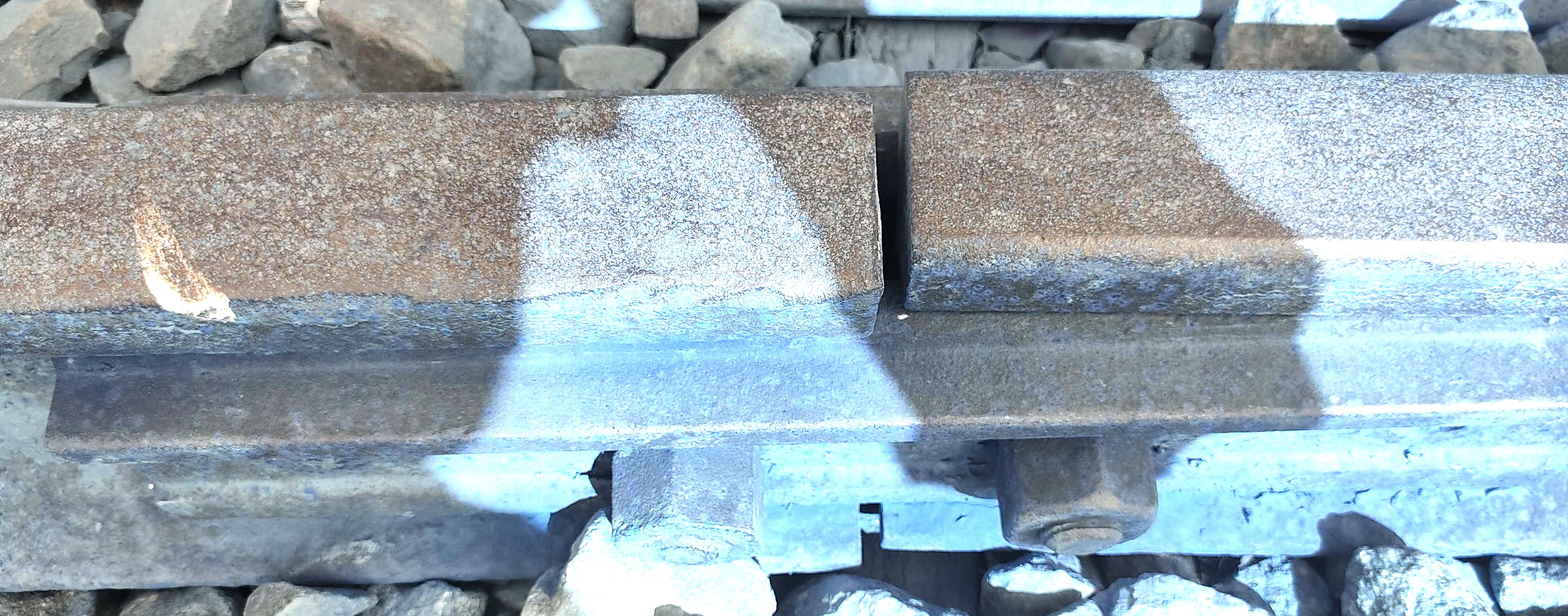duan lie: (837, 45, 956, 359)
